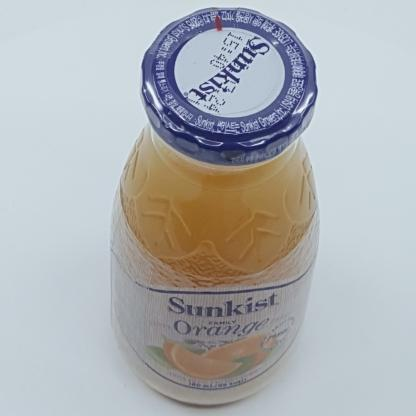----------180ML: (109, 7, 320, 405)
